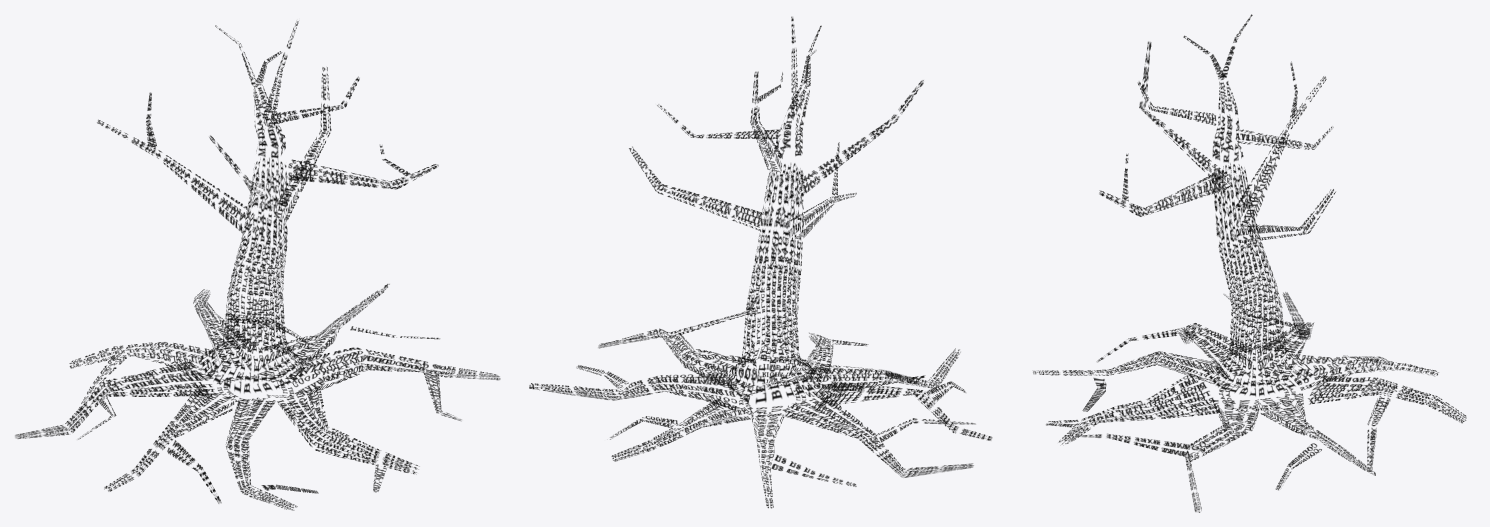
Rendered from republicantree.gltf.
The picture shows the model from 3 angles, left to right: view 1: azimuth 30°, elevation 25°; view 2: azimuth 150°, elevation 25°; view 3: azimuth 270°, elevation 25°; orthographic projection. The views are drawn at different scales.
Visible parts, largest first — view 1: RepublicanTree; view 2: RepublicanTree; view 3: RepublicanTree.
Boxes of the visible parts, <box> form: RepublicanTree: <box>15,21,500,510</box>; RepublicanTree: <box>529,16,992,508</box>; RepublicanTree: <box>1033,14,1466,512</box>.
Bounding box in the file's own units: 38.74 × 34.42 × 35.66.
1 material, 1 textured.
